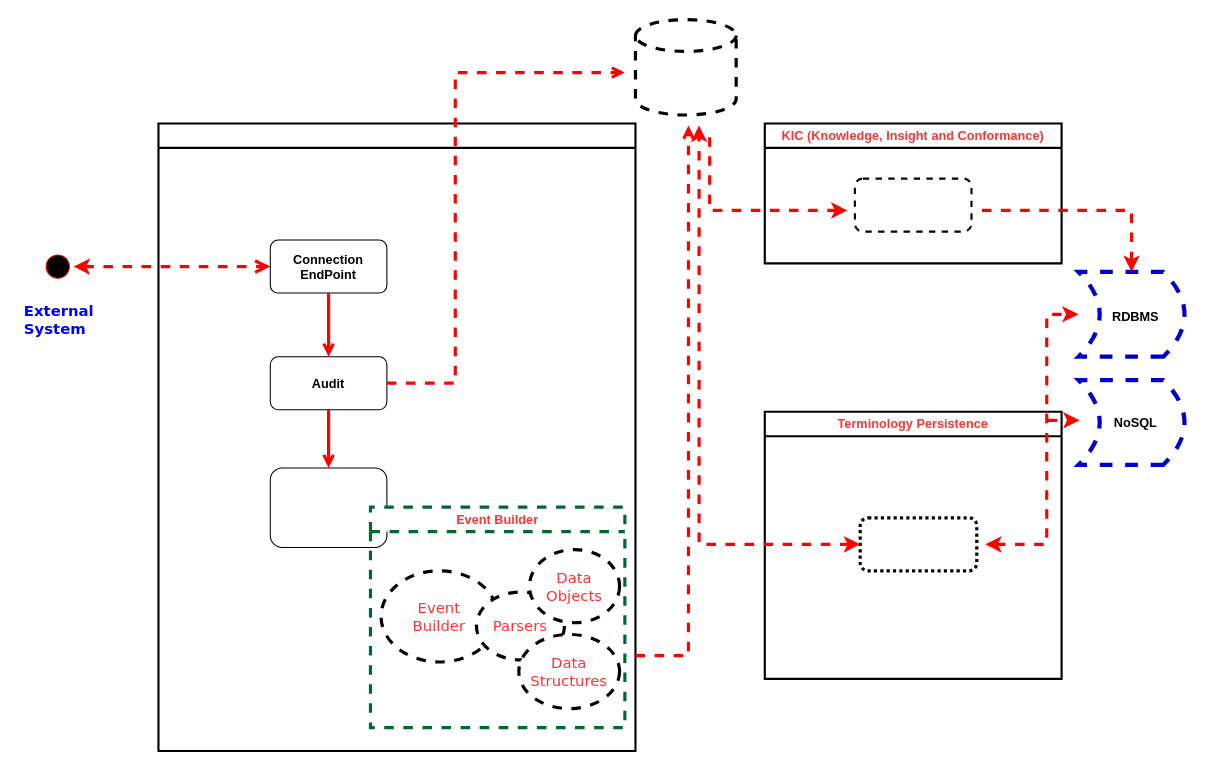
The diagram is 1205 pixels wide and 771 high, and some of its shapes have lost their labels. The shapes that lost their labels are listed below. From the top down, each one's box as (x1, y1, x2, y2) in pixels, then its label:
(633, 17, 737, 116): Kafka
(853, 177, 972, 232): iDaaS KIC Integration
(157, 122, 636, 752): iDaaS Connect
(269, 467, 387, 547): Bean (Routing/ Terminology, etc.)
(858, 516, 978, 572): Quarkus App
